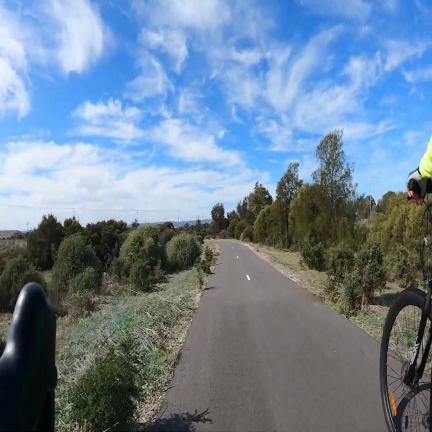Bike_Lane: (155, 239, 386, 432)
